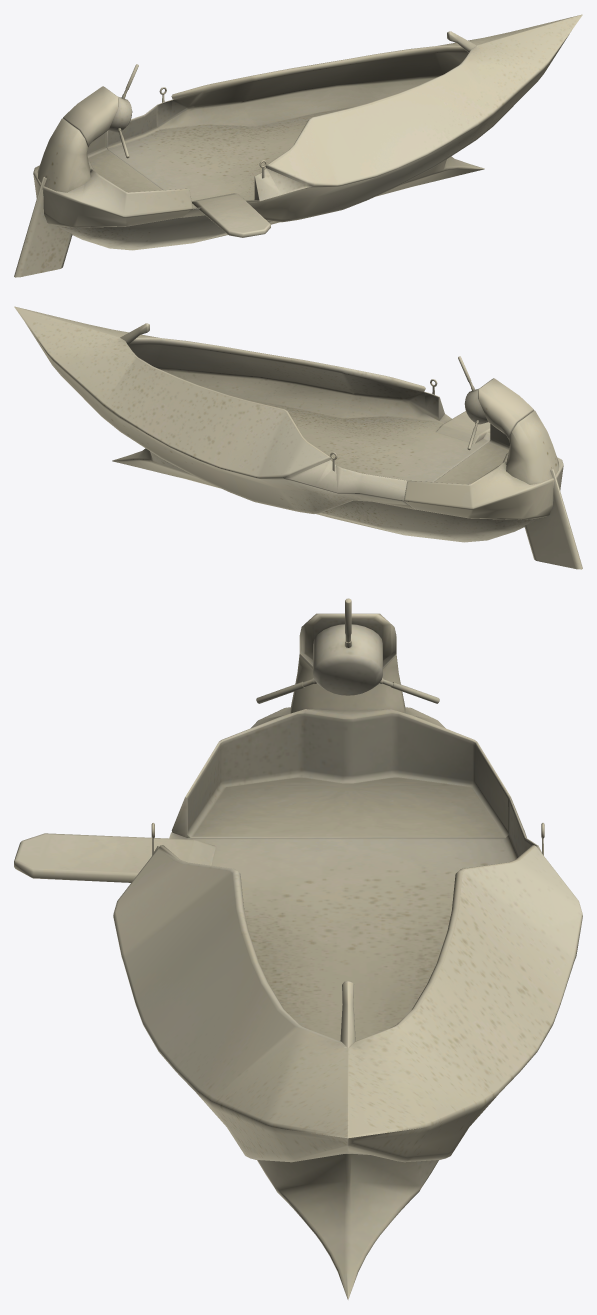
The model's file is 05_02_boat.dae.
The picture shows the model from 3 angles, top to bottom: view 1: azimuth 30°, elevation 25°; view 2: azimuth 150°, elevation 25°; view 3: azimuth 270°, elevation 25°; orthographic projection. The views are drawn at different scales.
Parts seen in each view (by area): view 1: Mesh; view 2: Mesh; view 3: Mesh.
Boxes of the visible parts, x1,y1,x2,y2 form: Mesh: (14,14,582,277); Mesh: (14,306,582,569); Mesh: (14,598,582,1299).
Size of the model in its own units: 11.86 by 3.85 by 5.27.
